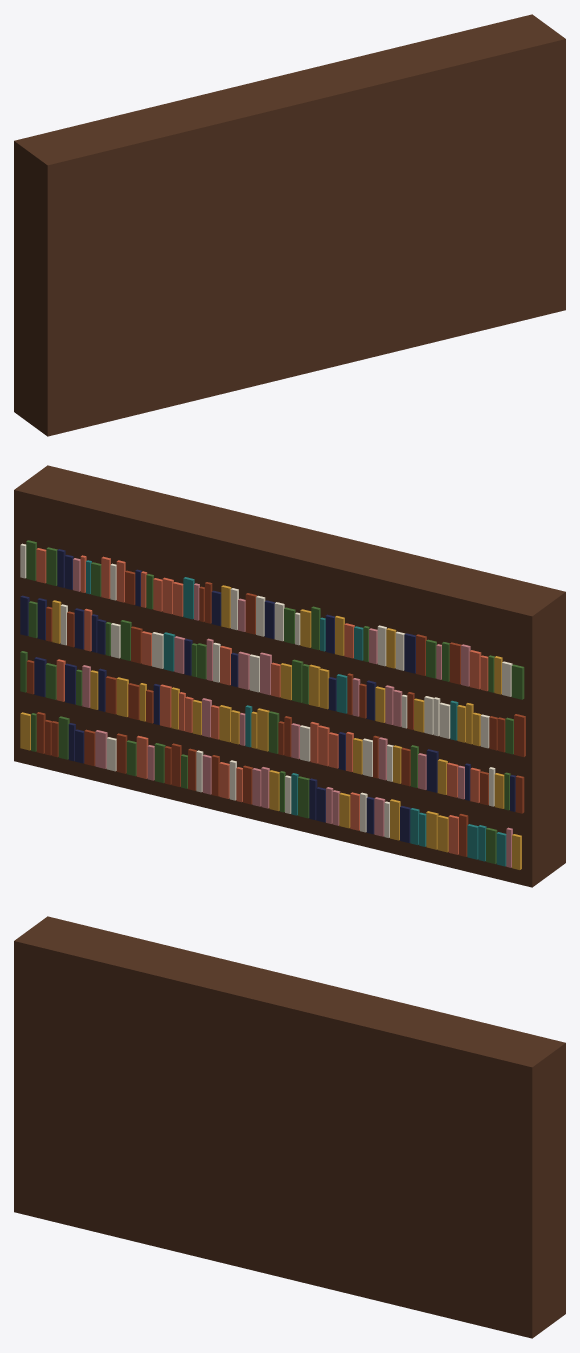
The model's file is fiction.glb.
The picture shows the model from 3 angles, top to bottom: view 1: azimuth 30°, elevation 25°; view 2: azimuth 150°, elevation 25°; view 3: azimuth 330°, elevation 25°; orthographic projection.
Visible parts, largest first — view 1: Box1; view 2: Box1; view 3: Box1.
Boxes of the visible parts, x1,y1,x2,y2 form: Box1: (14, 14, 565, 436); Box1: (14, 465, 565, 887); Box1: (14, 916, 565, 1338).
Bounding box in the file's own units: 4 × 2 × 0.475.
